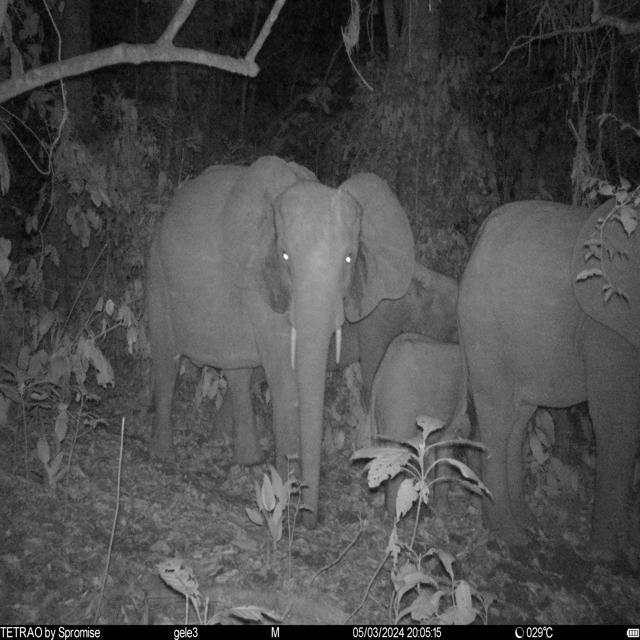calf: (205, 261, 460, 447), (362, 333, 470, 514)
ear: (336, 172, 416, 322), (569, 190, 640, 351), (218, 156, 290, 314)
elephant: (145, 157, 416, 532), (458, 188, 640, 562)
tusk: (332, 326, 343, 366), (288, 325, 298, 368)
